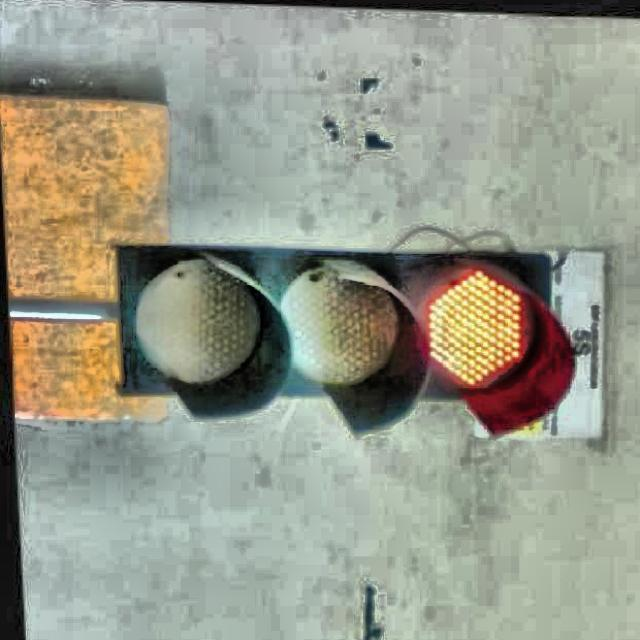red: (121, 250, 565, 414)
